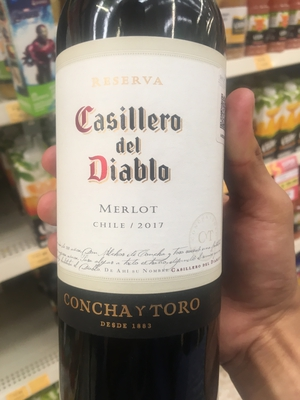casillero del diablo merlot: (54, 6, 226, 400)
